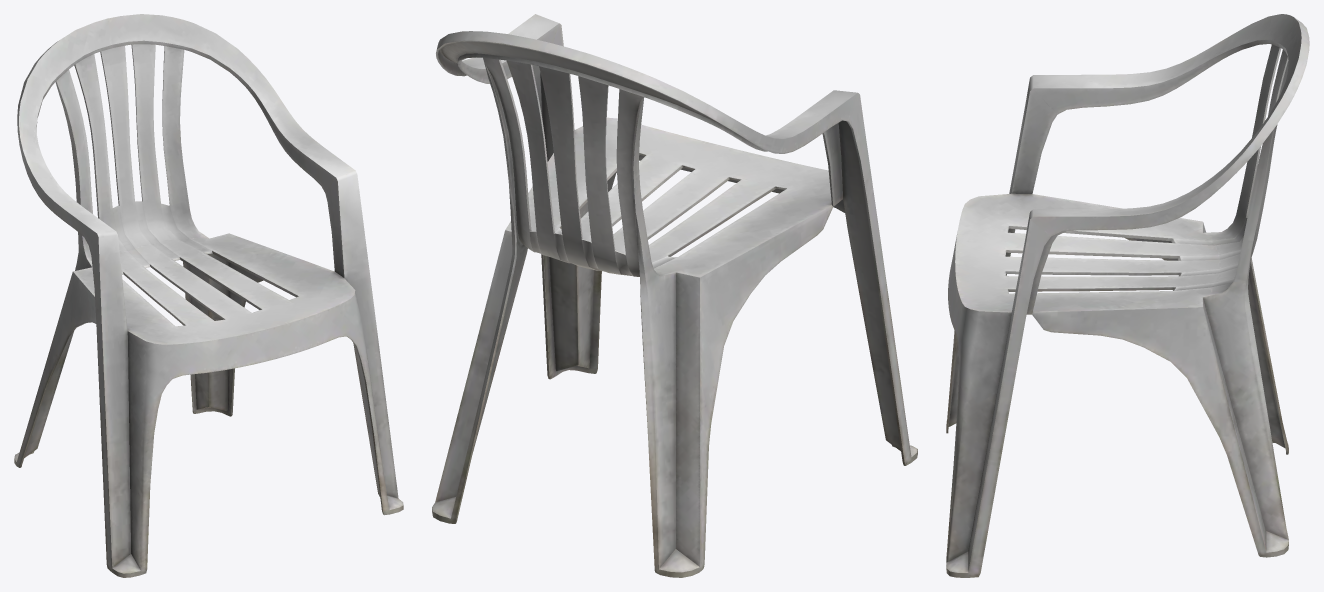
File: plastic_chair.glb
3 views of the same model, side by side, from view 1: azimuth 30°, elevation 25°; view 2: azimuth 150°, elevation 25°; view 3: azimuth 270°, elevation 25° (orthographic). The views are drawn at different scales.
Visible parts, largest first — view 1: plastic_monobloc_chair_01; view 2: plastic_monobloc_chair_01; view 3: plastic_monobloc_chair_01.
Part boxes in pixels (x1=…): plastic_monobloc_chair_01: x1=14, y1=14, x2=403, y2=577; plastic_monobloc_chair_01: x1=432, y1=14, x2=917, y2=577; plastic_monobloc_chair_01: x1=946, y1=14, x2=1309, y2=577.
Bounding box in the file's own units: 0.6419 × 0.8798 × 0.6276.
Materials: 1 (1 with a texture image).
